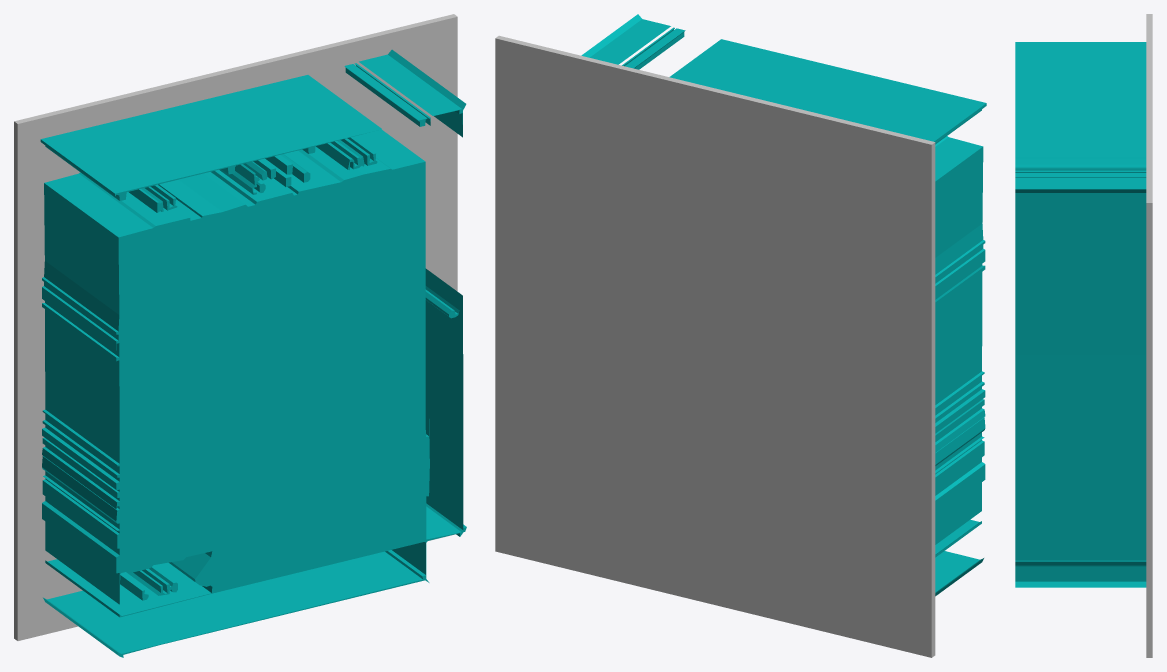
The picture shows the model from 3 angles, left to right: view 1: azimuth 30°, elevation 25°; view 2: azimuth 150°, elevation 25°; view 3: azimuth 270°, elevation 25°; orthographic projection. The views are drawn at different scales.
Parts seen in each view (by area): view 1: world; view 2: world; view 3: world.
Boxes of the visible parts, bbox=[...] form: world: bbox=[14, 14, 466, 657]; world: bbox=[495, 14, 986, 657]; world: bbox=[1015, 14, 1152, 657].
Bounding box in the file's own units: 10.23 × 11.49 × 3.15.
